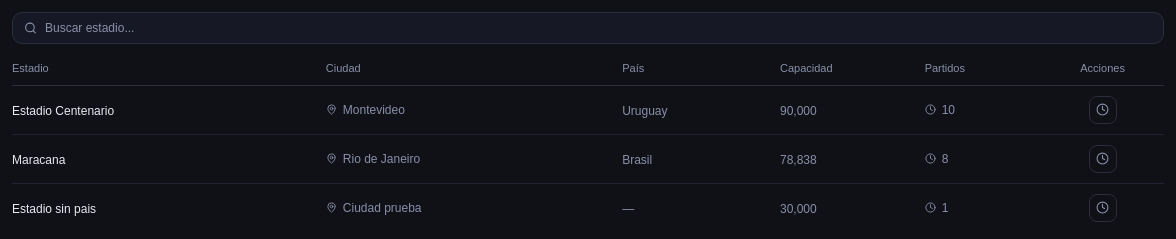
Test case: StadiumsTab › muestra estado vacío cuando el filtro no coincide
In the field with placeholder "Buscar estadio...": (588, 28) [12,12,1164,44], type "Sin coincidencias"
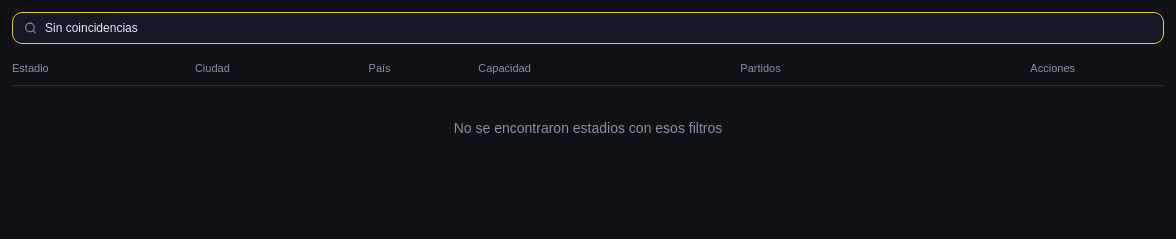
Result: the text "No se encontraron estadios con esos filtros" is shown at [12,85,1164,170]
